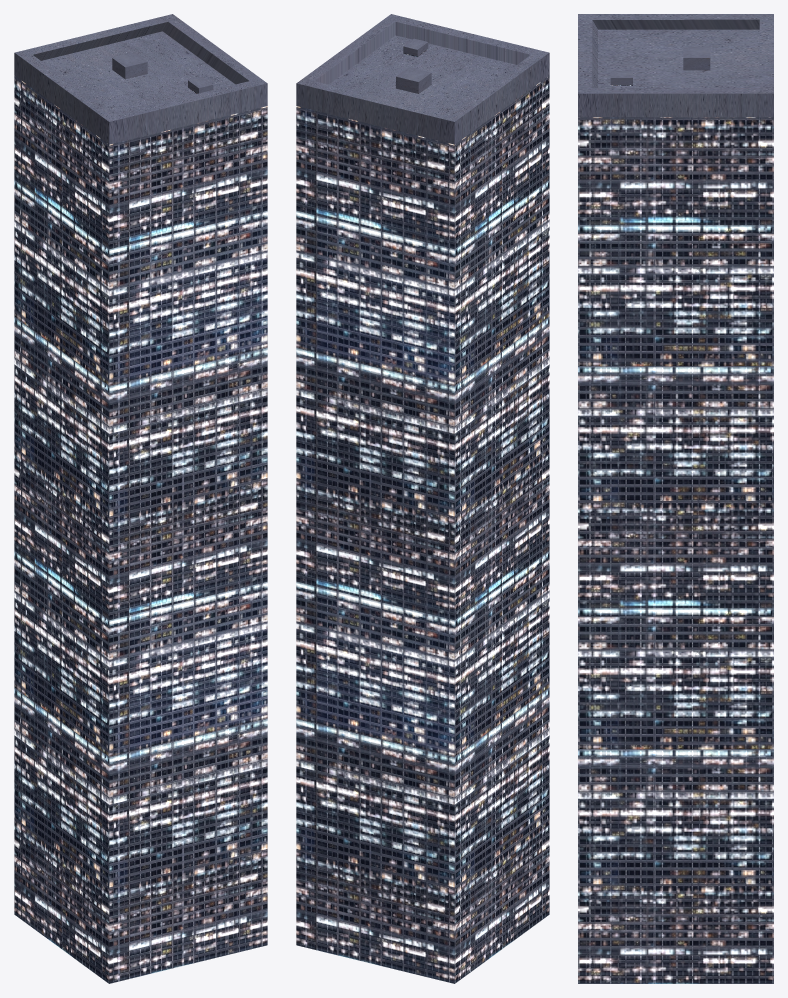
Rendered from new-massive-skyscraper.glb.
The picture shows the model from 3 angles, left to right: view 1: azimuth 30°, elevation 25°; view 2: azimuth 150°, elevation 25°; view 3: azimuth 270°, elevation 25°; orthographic projection. The views are drawn at different scales.
Visible parts, largest first — view 1: new-massive-skyscraper; view 2: new-massive-skyscraper; view 3: new-massive-skyscraper.
Boxes of the visible parts, bbox=[...] form: new-massive-skyscraper: bbox=[14, 14, 267, 983]; new-massive-skyscraper: bbox=[296, 14, 549, 983]; new-massive-skyscraper: bbox=[578, 14, 773, 983].
Bounding box in the file's own units: 60.41 × 315 × 62.6.
2 materials, 2 textured.
